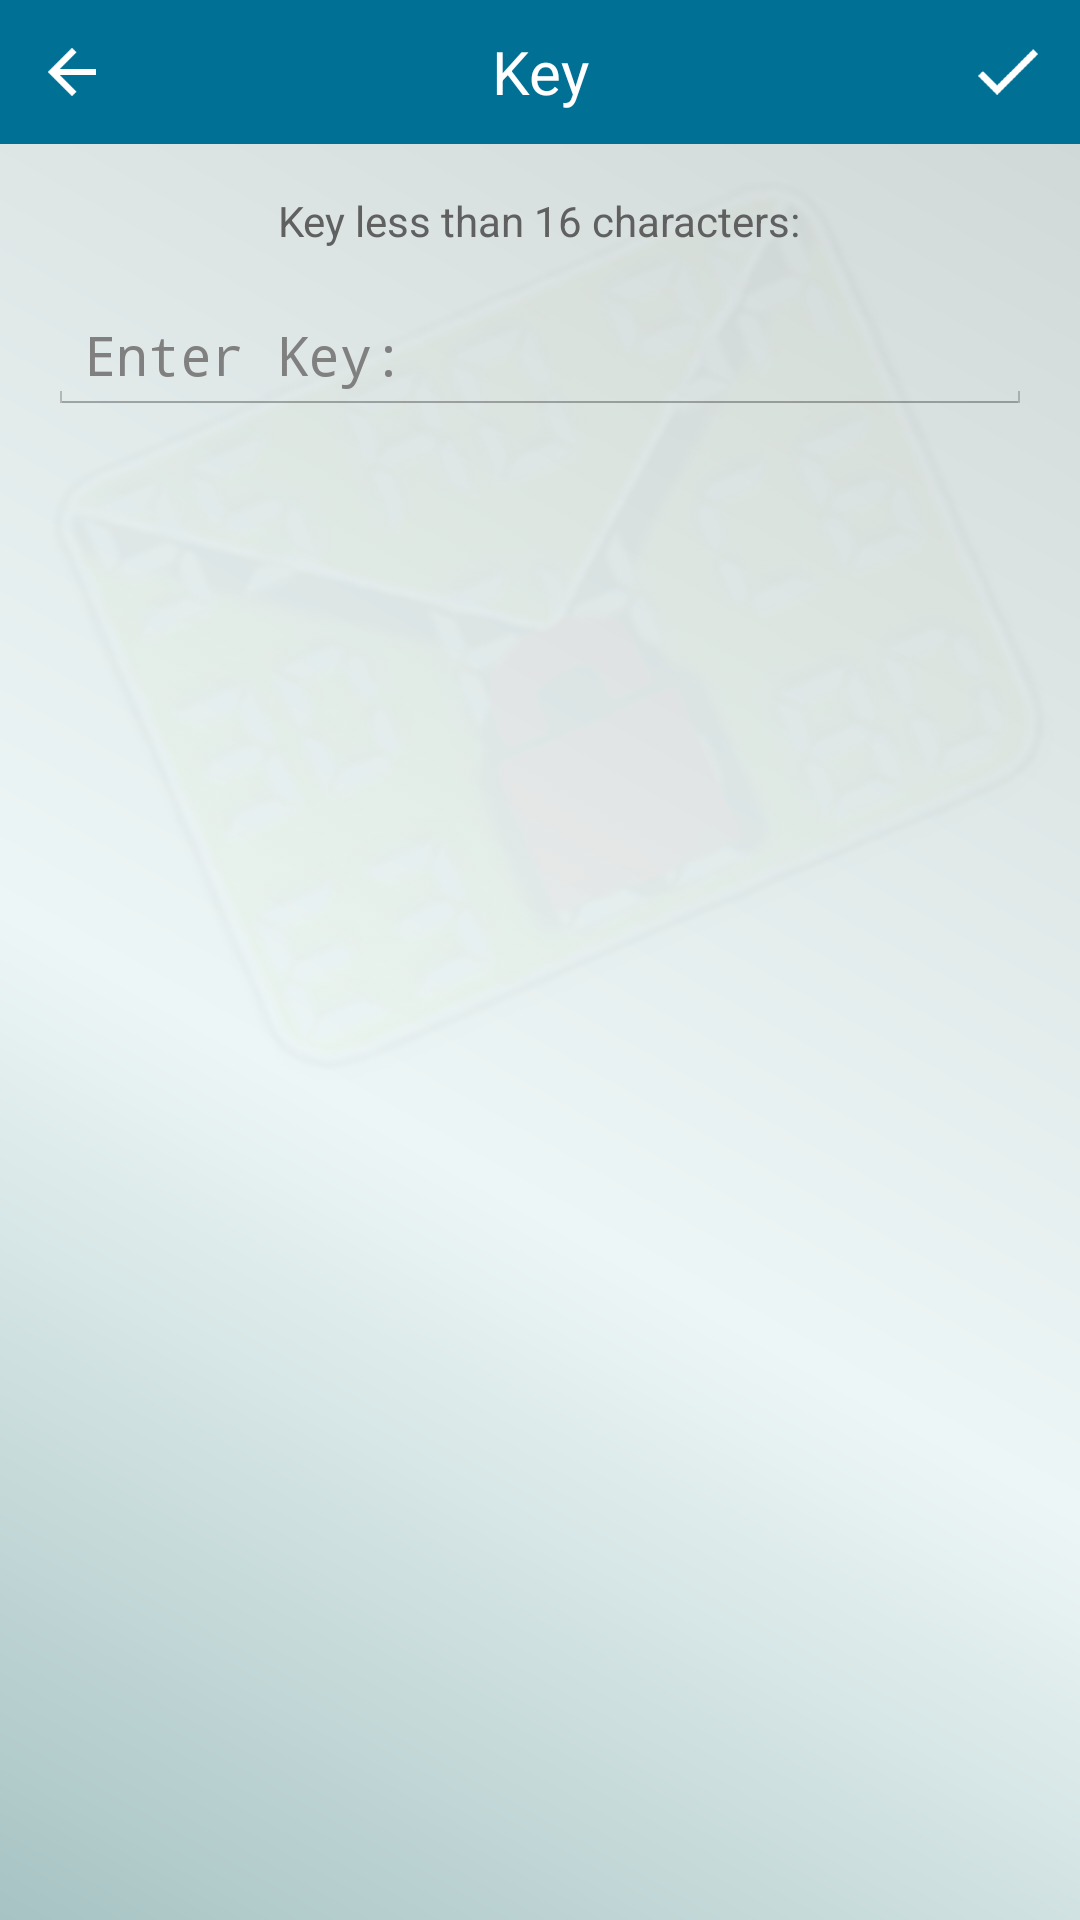

Where to tap for icons on this 1080 × 1920 app screen, as point (x, y):
Back: point (72, 72)
OK: point (1008, 72)
